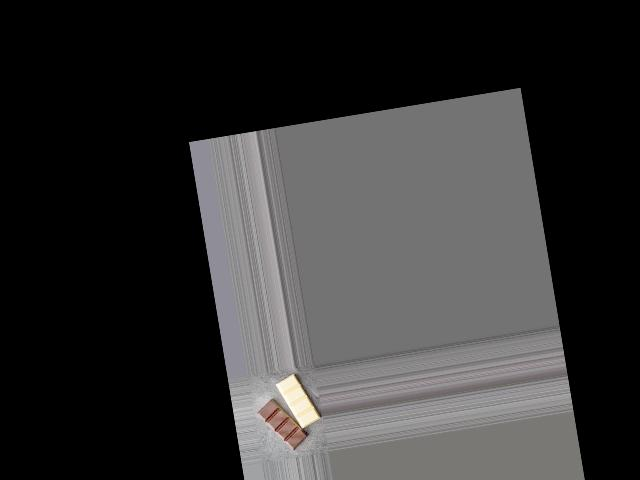chocolate: (252, 367, 324, 454)
